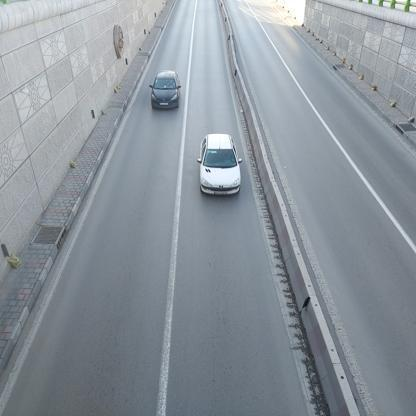Car: (195, 131, 243, 197), (153, 69, 177, 112)
